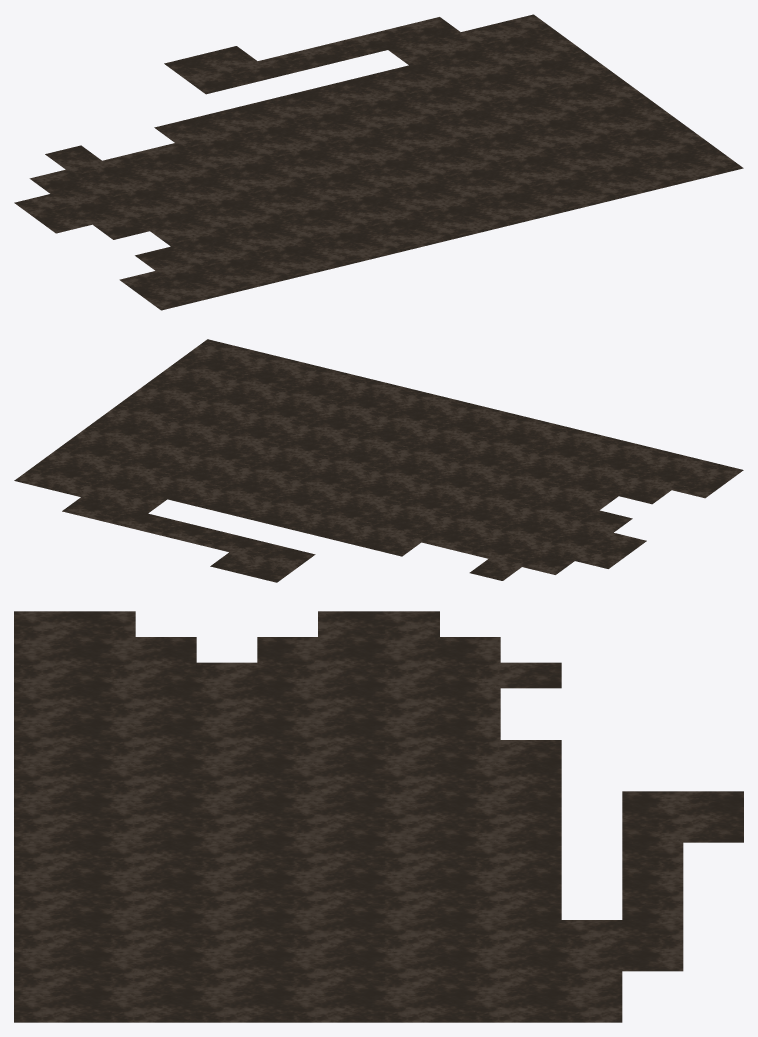
File: floor_-1_-15.glb
3 renders of one model, top to bottom at view 1: azimuth 30°, elevation 25°; view 2: azimuth 150°, elevation 25°; view 3: azimuth 270°, elevation 25°, orthographic. The views are drawn at different scales.
Parts seen in each view (by area): view 1: floor_-1_-15; view 2: floor_-1_-15; view 3: floor_-1_-15.
Part boxes in pixels (box(x1,y1,x2,y2)): floor_-1_-15: box(14, 14, 743, 310); floor_-1_-15: box(14, 339, 743, 582); floor_-1_-15: box(14, 611, 743, 1022).
Size of the model in its own units: 64 by 0 by 48.
1 material, 1 textured.
